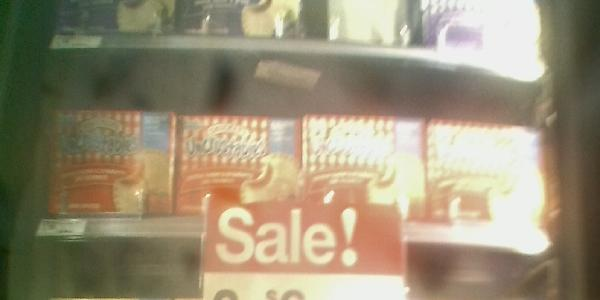icecream: (177, 111, 305, 231), (45, 108, 174, 222), (303, 110, 427, 227), (428, 113, 547, 232)
